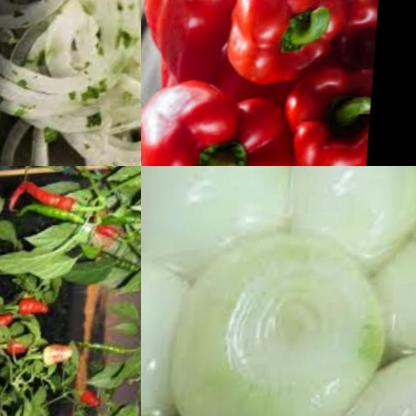bell pepper: (141, 74, 296, 166), (221, 0, 341, 91), (277, 74, 374, 166), (141, 0, 244, 85), (325, 0, 380, 77)
hot pepper: (4, 178, 97, 236), (88, 217, 141, 259), (39, 342, 82, 378), (36, 166, 124, 176), (21, 298, 57, 322), (80, 388, 110, 416), (10, 338, 37, 360), (0, 312, 25, 334)
onion: (141, 166, 416, 416), (0, 0, 141, 166)
